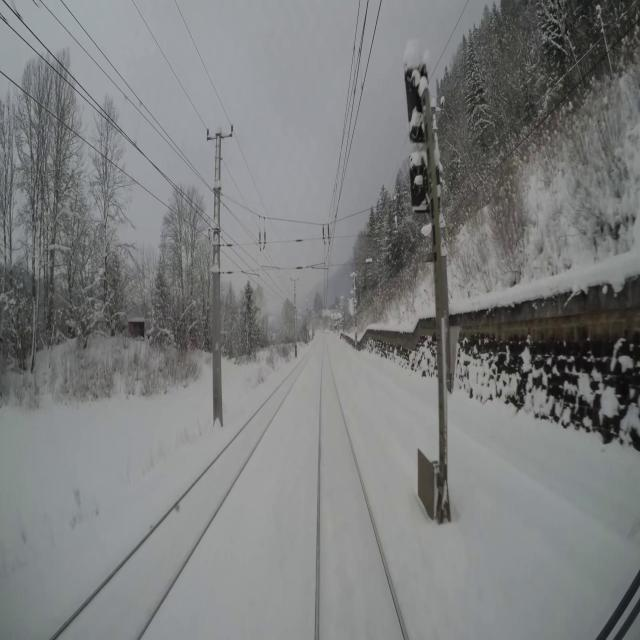rail-track: (57, 356, 307, 639), (321, 341, 403, 639)
